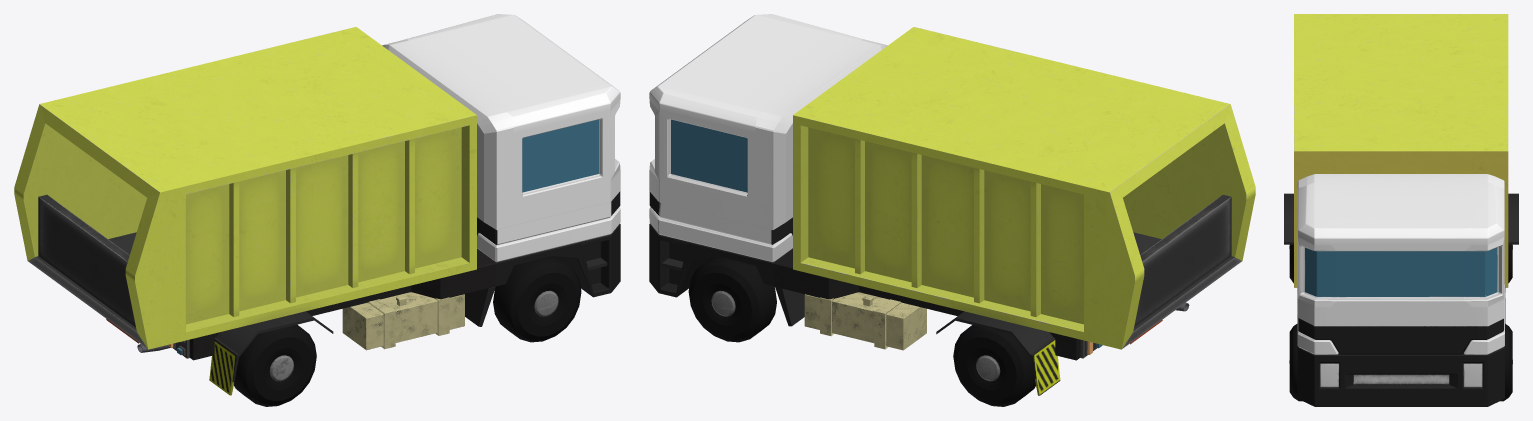
Rendered from Truck.fbx.
3 renders of one model, left to right at view 1: azimuth 30°, elevation 25°; view 2: azimuth 150°, elevation 25°; view 3: azimuth 270°, elevation 25°, orthographic. The views are drawn at different scales.
Parts seen in each view (by area): view 1: polySurface4, pCube31, pCube1, polySurface5, pCube29, pCube24, pCube28, pCylinder8, pCube25, pCube34, pCube8, pCube30; view 2: polySurface5, pCube31, pCube1, polySurface4, pCube29, pCube24, pCube28, pCylinder8, pCube25, pCube34, pCube8, pCube30; view 3: pCube1, pCube31, pCube8, pCube23, pCube25, pCube29, pCube34, pCylinder8.
Boxes of the visible parts, x1=… form: polySurface4: x1=125, y1=115, x2=476, y2=349; pCube31: x1=39, y1=27, x2=476, y2=197; pCube1: x1=382, y1=14, x2=620, y2=229; polySurface5: x1=14, y1=104, x2=146, y2=260; pCube29: x1=189, y1=250, x2=581, y2=360; pCube24: x1=38, y1=194, x2=135, y2=327; pCube28: x1=342, y1=292, x2=464, y2=350; pCylinder8: x1=234, y1=324, x2=316, y2=406; pCube25: x1=477, y1=191, x2=620, y2=262; pCube34: x1=209, y1=257, x2=607, y2=395; pCube8: x1=477, y1=224, x2=620, y2=297; pCube30: x1=28, y1=232, x2=147, y2=348; polySurface5: x1=793, y1=115, x2=1144, y2=349; pCube31: x1=793, y1=27, x2=1230, y2=197; pCube1: x1=649, y1=14, x2=887, y2=229; polySurface4: x1=1123, y1=104, x2=1255, y2=260; pCube29: x1=688, y1=250, x2=1080, y2=360; pCube24: x1=1134, y1=195, x2=1231, y2=327; pCube28: x1=804, y1=292, x2=926, y2=350; pCylinder8: x1=953, y1=325, x2=1035, y2=406; pCube25: x1=649, y1=192, x2=792, y2=262; pCube34: x1=661, y1=258, x2=1060, y2=395; pCube8: x1=649, y1=224, x2=792, y2=297; pCube30: x1=1122, y1=232, x2=1241, y2=348; pCube1: x1=1297, y1=174, x2=1504, y2=326; pCube31: x1=1294, y1=14, x2=1508, y2=151; pCube8: x1=1297, y1=346, x2=1504, y2=406; pCube23: x1=1294, y1=151, x2=1508, y2=287; pCube25: x1=1297, y1=284, x2=1504, y2=354; pCube29: x1=1289, y1=323, x2=1512, y2=401; pCube34: x1=1284, y1=193, x2=1518, y2=317; pCylinder8: x1=1289, y1=244, x2=1512, y2=283.
Bounding box in the file's own units: 3.41 × 1.6 × 1.57.
